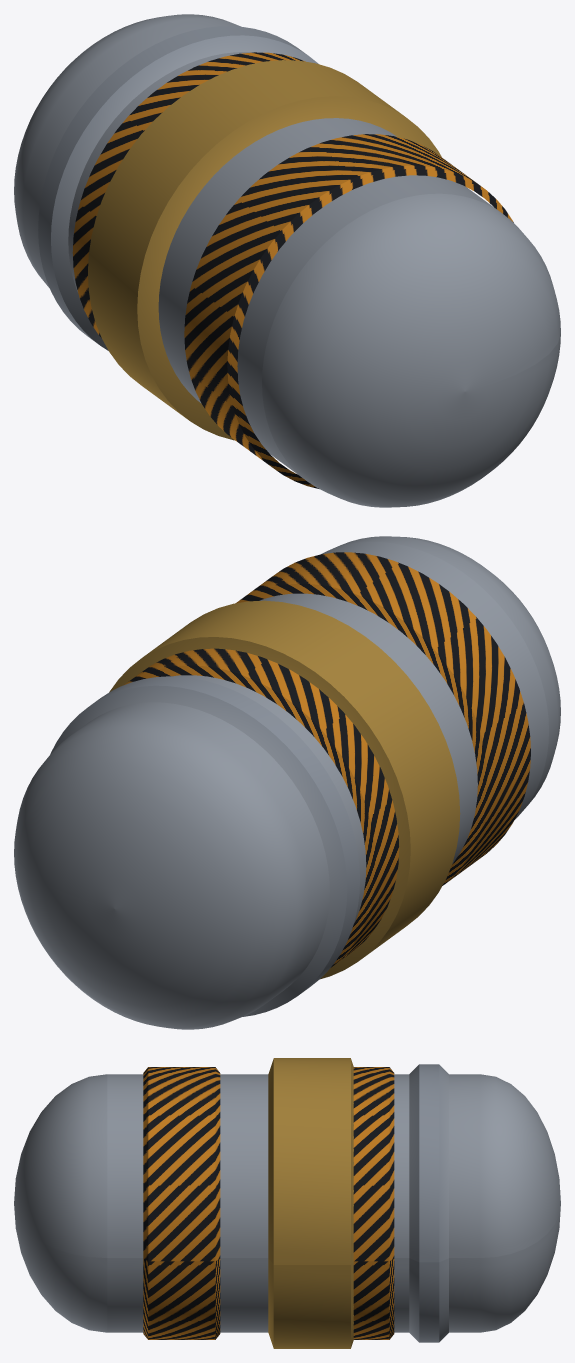
Rendered from weapon_emberpistol_magazine.glb.
3 renders of one model, top to bottom at view 1: azimuth 30°, elevation 25°; view 2: azimuth 150°, elevation 25°; view 3: azimuth 270°, elevation 25°, orthographic. The views are drawn at different scales.
Parts seen in each view (by area): view 1: emberpistol_canister, emberpistol_sight_bezel, emberpistol_hazard_790, emberpistol_hazard_510; view 2: emberpistol_canister, emberpistol_sight_bezel, emberpistol_hazard_790, emberpistol_hazard_510; view 3: emberpistol_canister, emberpistol_sight_bezel, emberpistol_hazard_790, emberpistol_hazard_510.
Part boxes in pixels (left/top/right/bottom): emberpistol_canister: left=14, top=14, right=560, bottom=507; emberpistol_sight_bezel: left=88, top=60, right=441, bottom=440; emberpistol_hazard_790: left=184, top=134, right=513, bottom=488; emberpistol_hazard_510: left=72, top=52, right=305, bottom=338; emberpistol_canister: left=14, top=536, right=560, bottom=1029; emberpistol_sight_bezel: left=109, top=600, right=460, bottom=979; emberpistol_hazard_790: left=236, top=552, right=530, bottom=885; emberpistol_hazard_510: left=124, top=648, right=399, bottom=967; emberpistol_canister: left=14, top=1064, right=560, bottom=1342; emberpistol_sight_bezel: left=268, top=1058, right=353, bottom=1348; emberpistol_hazard_790: left=143, top=1067, right=220, bottom=1339; emberpistol_hazard_510: left=353, top=1067, right=394, bottom=1339.
Bounding box in the file's own units: 0.0468 × 0.0468 × 0.088.
4 materials, 1 textured.
